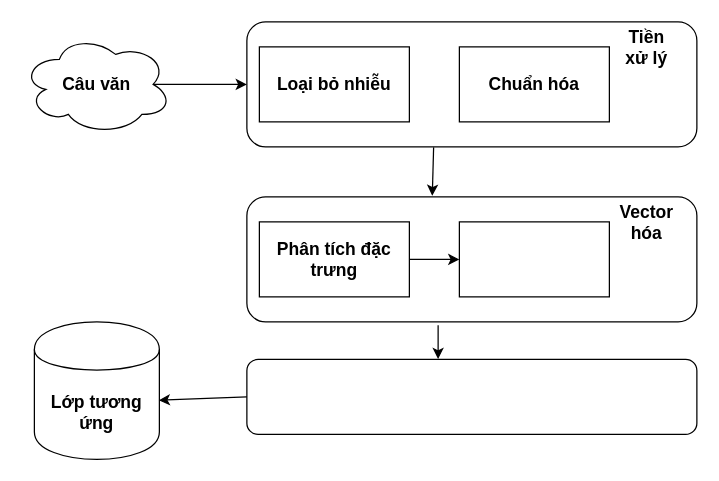
The diagram is 719 pixels wide and 481 high, and some of its shapes have lost their labels. Each missing label, with the centre of its shape:
"Mô hình phân lớp" belongs at pixel 471 396.
"Mô hình Vector hóa" belongs at pixel 533 259.
